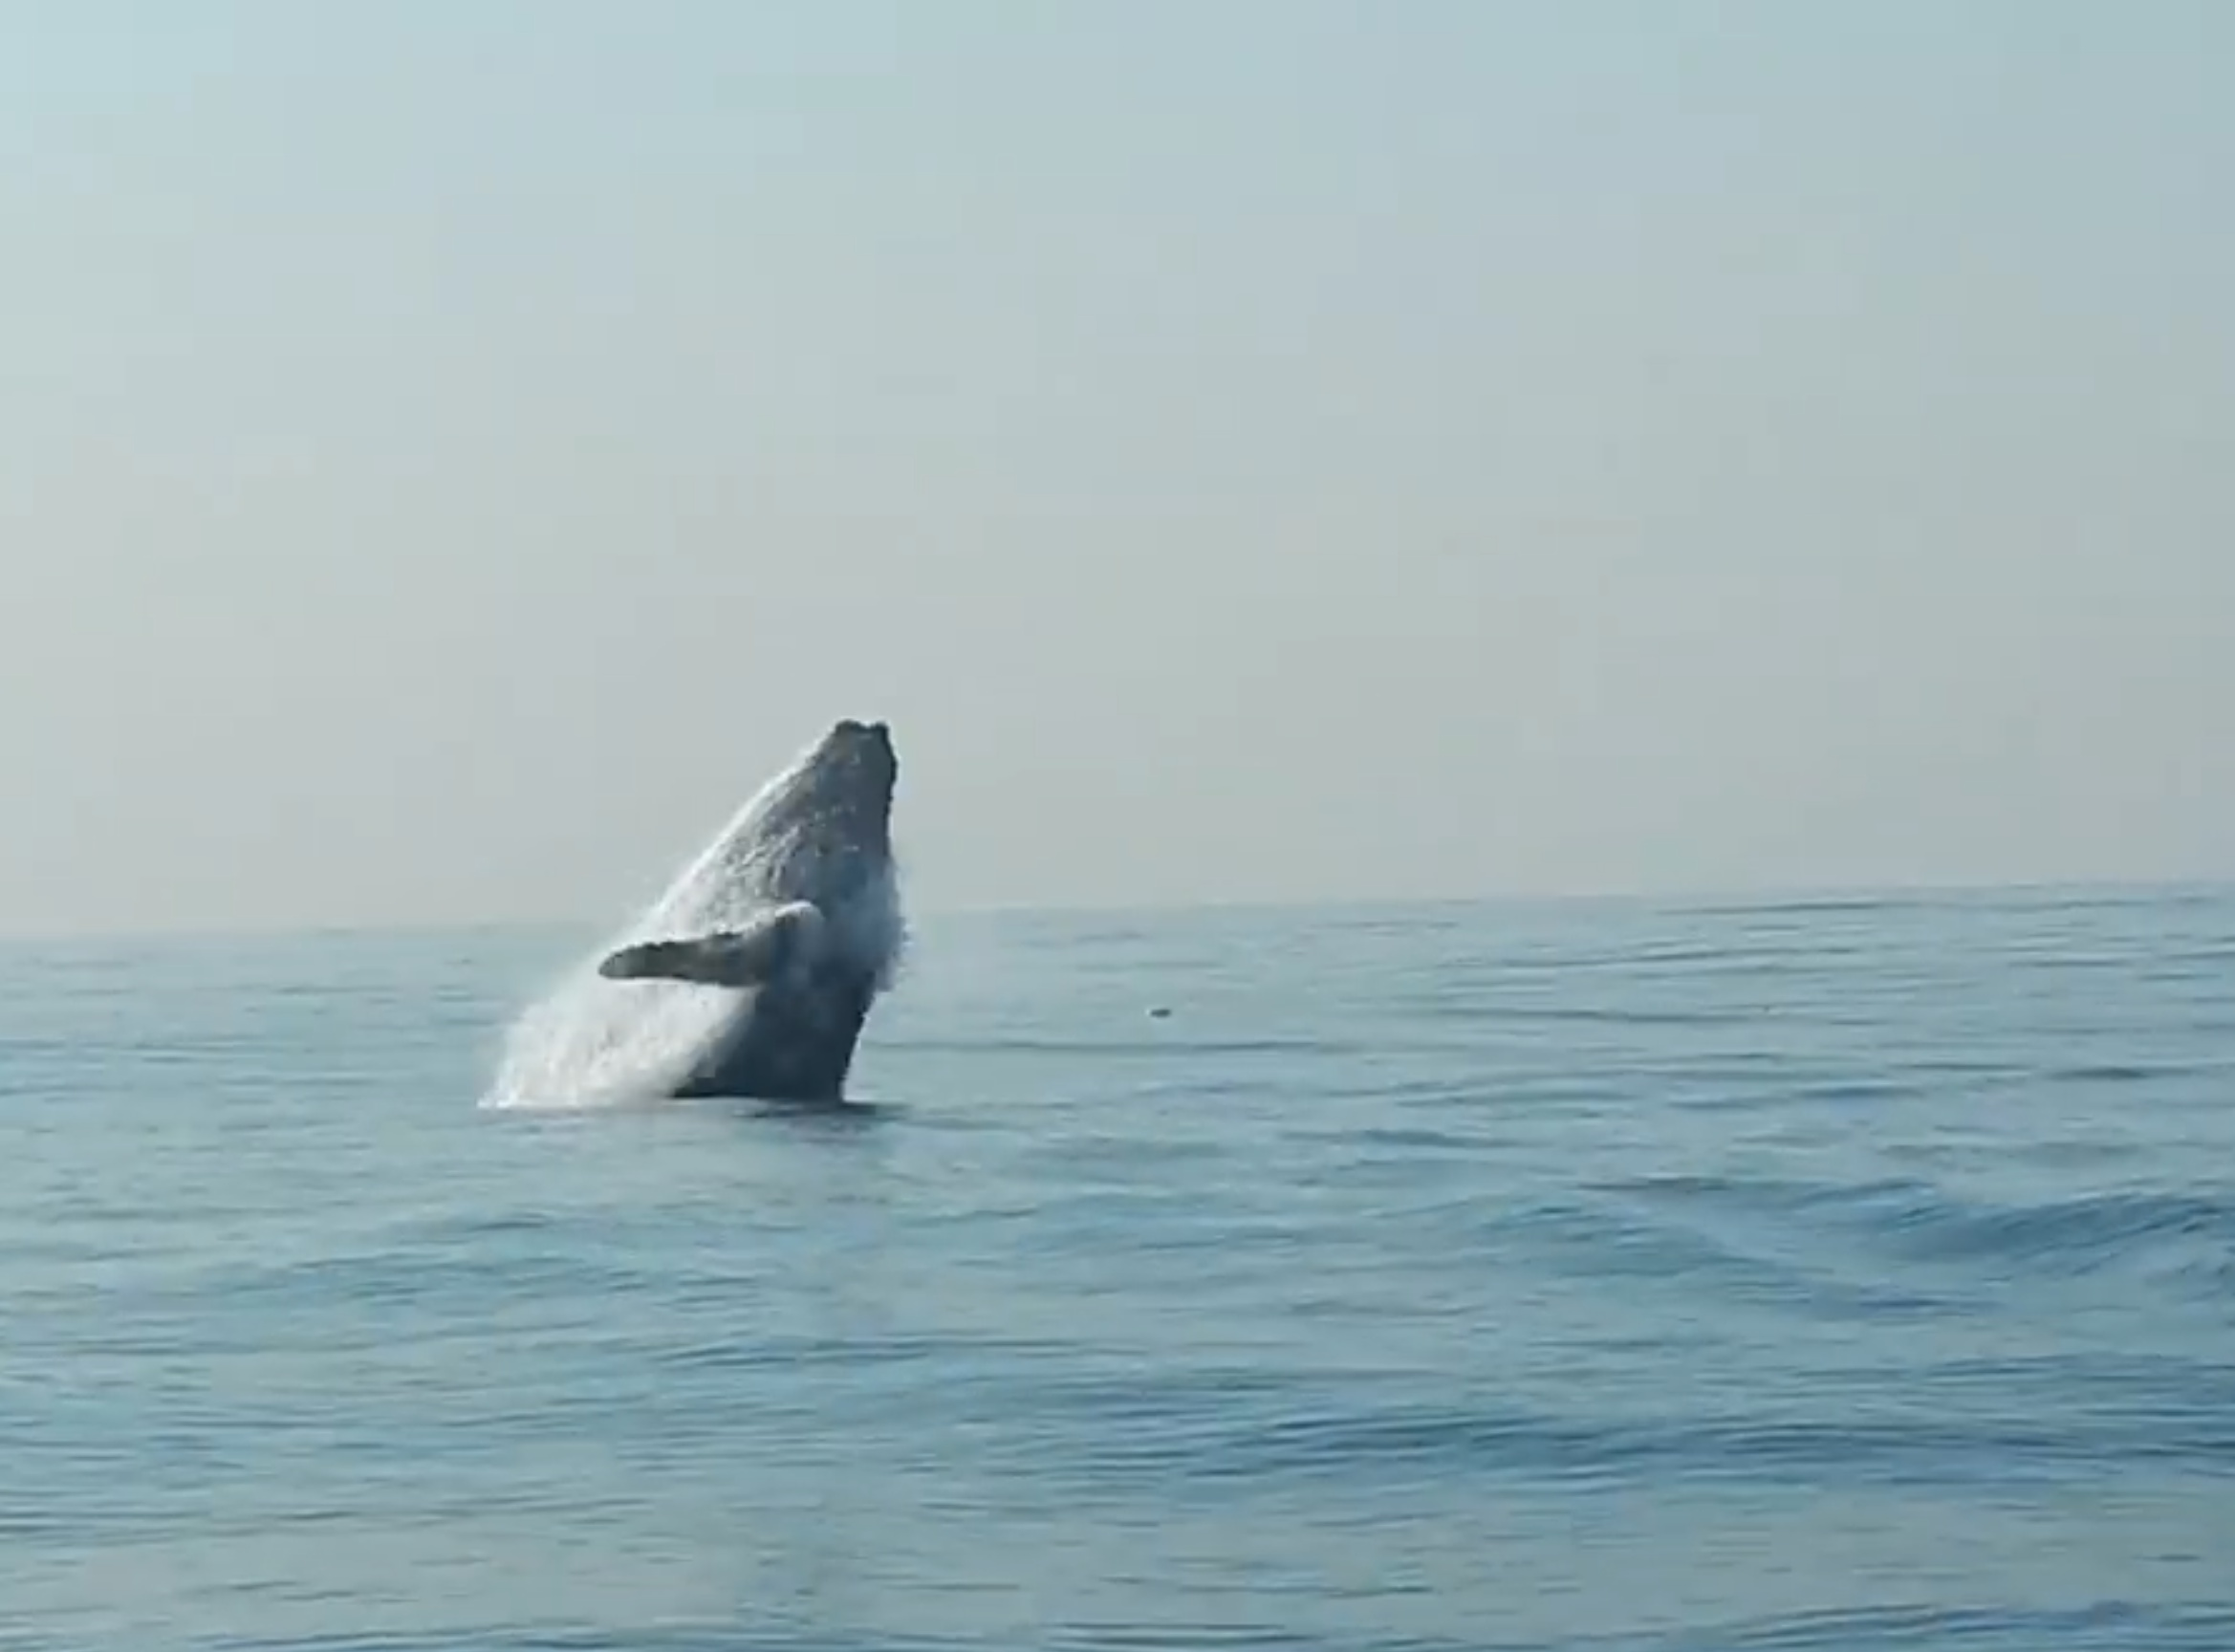humpback: (609, 720, 902, 1095)
